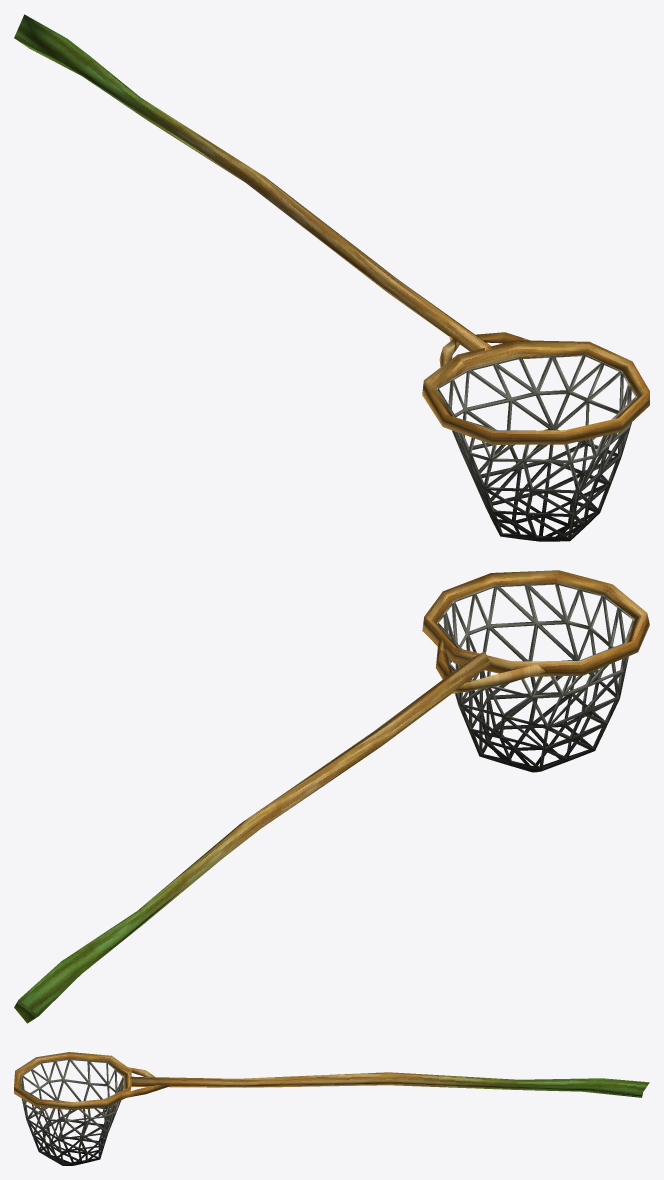
File: net.glb
The picture shows the model from 3 angles, top to bottom: view 1: azimuth 30°, elevation 25°; view 2: azimuth 150°, elevation 25°; view 3: azimuth 270°, elevation 25°; orthographic projection. The views are drawn at different scales.
Parts seen in each view (by area): view 1: rod; view 2: rod; view 3: rod.
Boxes of the visible parts, box(x1,y1,x2,y2) form: rod: box(14, 14, 649, 541); rod: box(14, 570, 649, 1023); rod: box(14, 1052, 649, 1165).
Size of the model in its own units: 0.4374 by 0.3595 by 2.24.
2 materials, 1 textured.
